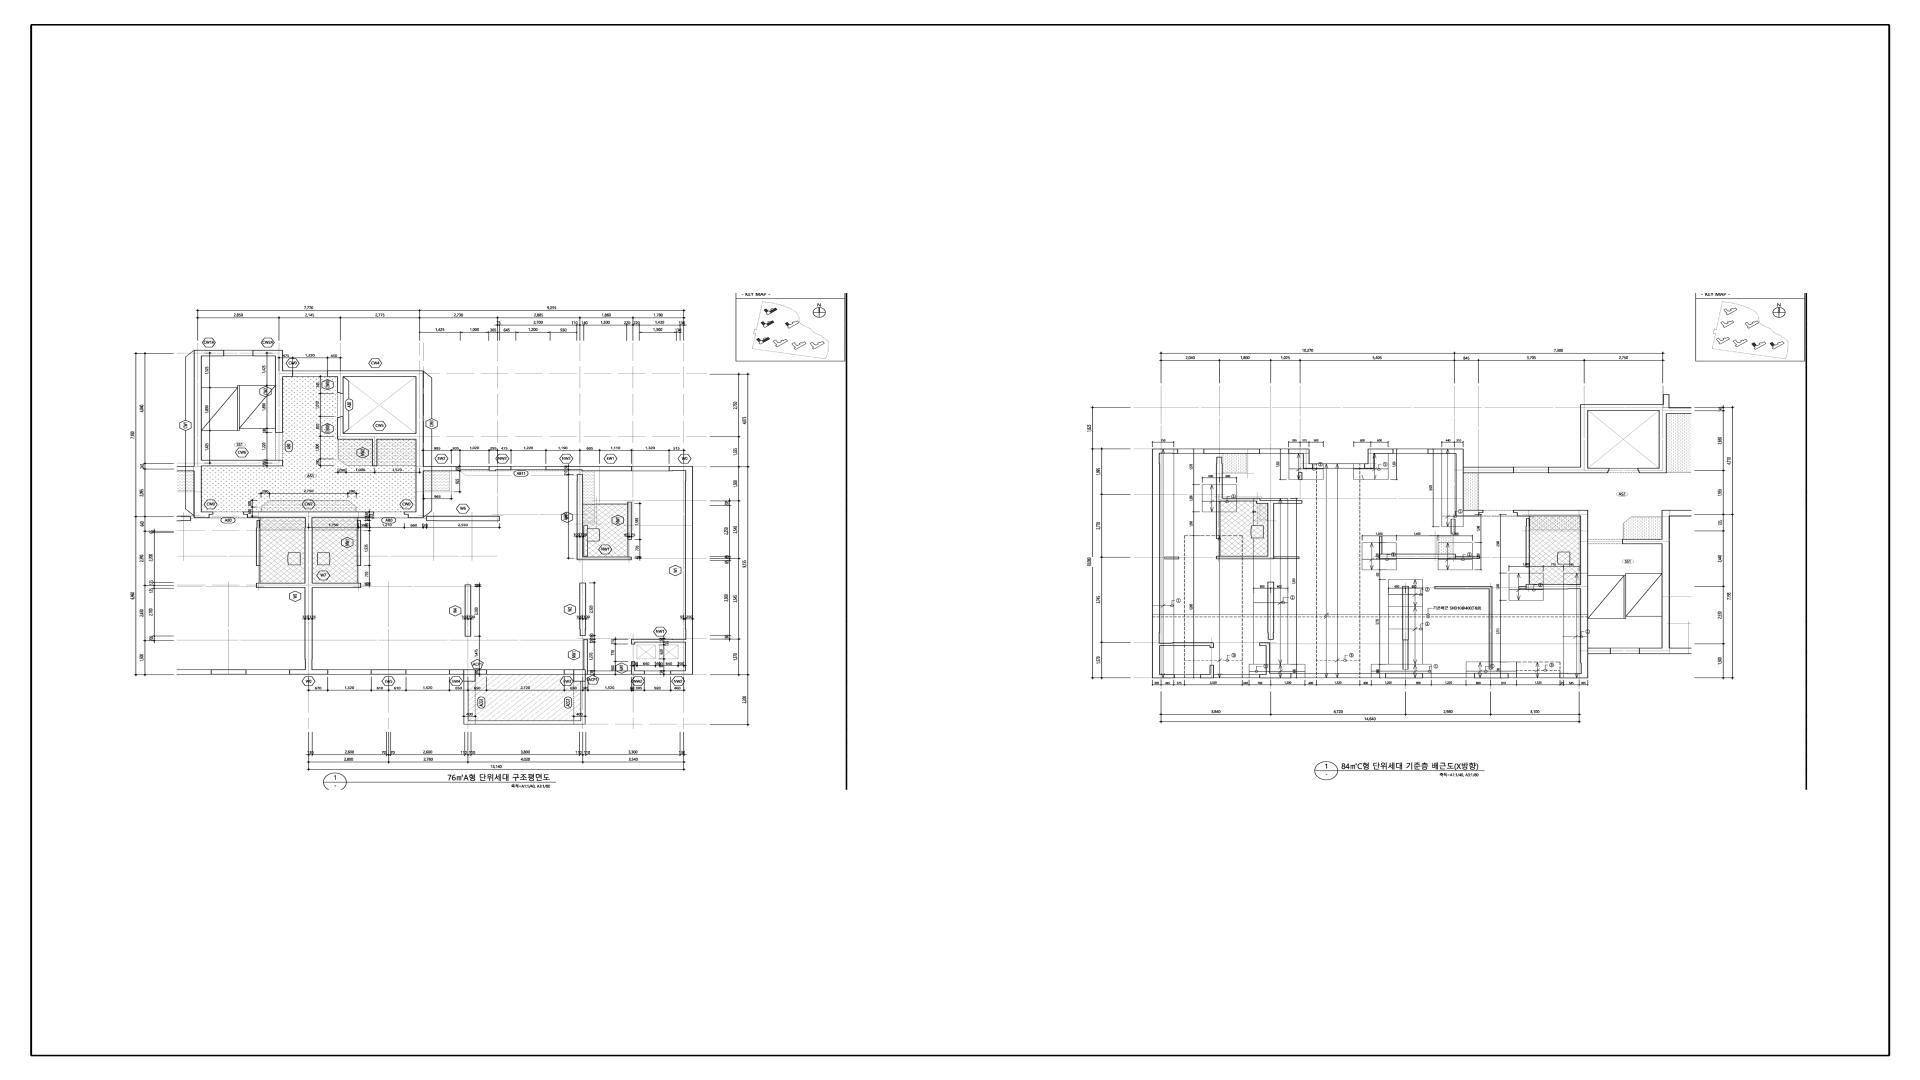wall: (1153, 454, 1160, 674), (686, 465, 694, 671), (194, 356, 202, 512), (305, 518, 313, 670), (1662, 510, 1669, 647), (415, 377, 423, 512), (1581, 517, 1588, 674), (243, 512, 375, 518), (1580, 405, 1669, 414), (327, 371, 423, 377), (276, 356, 284, 433), (202, 460, 284, 467), (576, 475, 583, 556), (1514, 510, 1589, 517), (344, 433, 415, 439), (546, 465, 632, 471), (1456, 454, 1464, 510), (1580, 411, 1588, 467), (1659, 414, 1667, 468), (1548, 467, 1610, 473), (1379, 554, 1456, 559), (426, 516, 500, 521), (1267, 582, 1274, 640), (464, 584, 471, 637), (579, 583, 585, 636), (1267, 504, 1274, 556), (1464, 467, 1514, 473), (1489, 589, 1493, 670), (1204, 448, 1261, 454), (1403, 585, 1408, 641), (1526, 584, 1581, 589), (1216, 456, 1222, 498), (313, 583, 361, 588), (1216, 498, 1261, 504), (1435, 585, 1493, 589), (576, 556, 632, 560), (1622, 539, 1662, 545), (1639, 647, 1671, 654), (194, 349, 224, 356), (253, 349, 284, 356), (1159, 642, 1209, 646), (450, 670, 487, 675), (423, 465, 460, 471), (1526, 518, 1530, 567), (371, 670, 406, 675), (1428, 448, 1464, 454), (357, 520, 361, 566), (1456, 510, 1484, 517), (1259, 673, 1291, 678), (1261, 500, 1303, 504), (583, 640, 588, 670), (1588, 647, 1611, 654), (1403, 641, 1408, 670), (1216, 556, 1274, 559), (1638, 468, 1667, 473), (1216, 501, 1220, 539), (338, 417, 344, 439), (372, 439, 377, 467), (628, 502, 632, 539), (1386, 674, 1423, 678), (1560, 673, 1588, 678), (1367, 448, 1394, 454), (1474, 674, 1509, 678), (636, 640, 686, 642), (1153, 448, 1178, 454), (194, 512, 214, 518), (404, 512, 423, 518), (305, 670, 328, 675), (564, 670, 588, 675), (489, 465, 512, 471), (338, 377, 344, 394), (1288, 448, 1309, 454), (1266, 646, 1270, 673), (670, 671, 694, 675), (669, 465, 686, 471), (1153, 674, 1175, 678), (1451, 520, 1456, 534), (1303, 454, 1309, 464), (1456, 556, 1480, 559), (284, 371, 293, 377), (1367, 454, 1374, 463), (1200, 674, 1215, 678), (632, 671, 645, 675), (1209, 665, 1215, 674), (1365, 463, 1374, 468), (1379, 535, 1382, 554), (632, 661, 636, 671), (1259, 642, 1270, 646), (1303, 464, 1313, 468), (1164, 556, 1179, 559), (1209, 642, 1215, 647), (632, 640, 636, 645), (1519, 587, 1526, 589)
